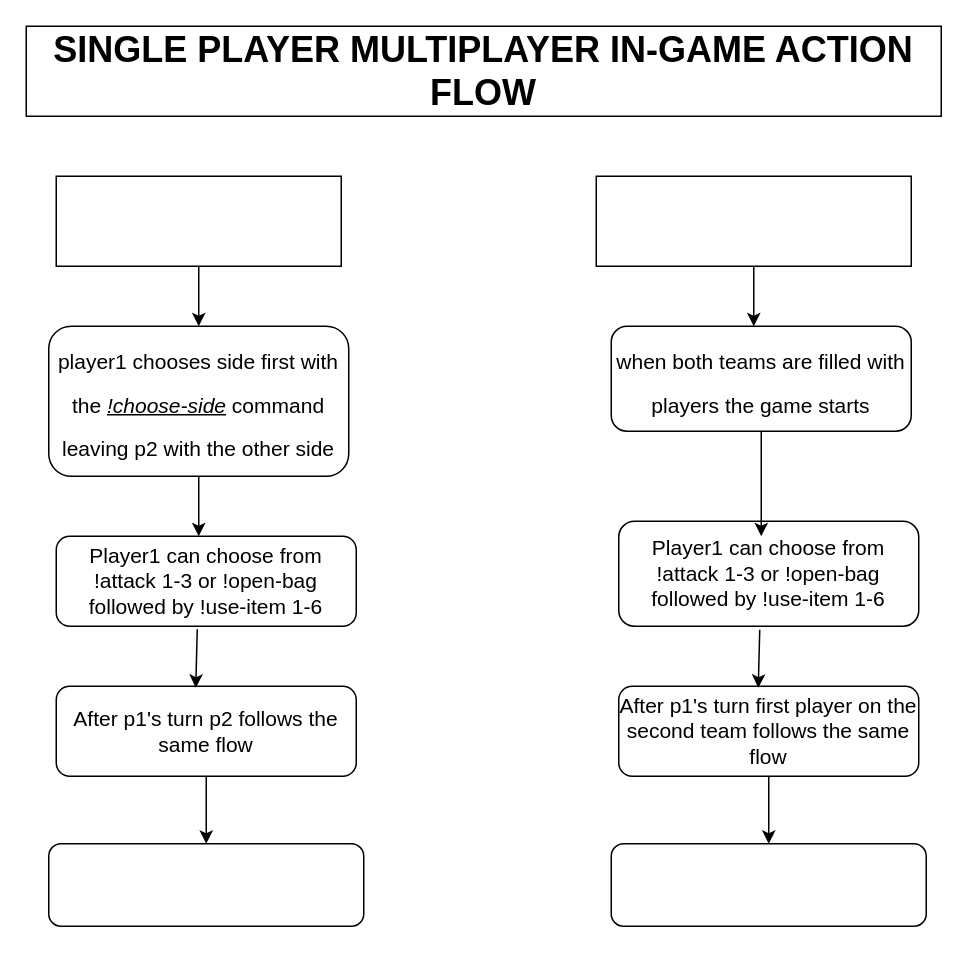
Image size: 968x953. Some labels were removed from this diagram. The shapes that lost their labels are listed below. From the top down, each one's centre as x and y in pixels, then its label:
At [198,220]: "SINGLE PLAYER".
At [753,220]: "MULTIPLAYER".
At [205,884]: "Game ends when first player loses all his fighters".
At [768,884]: "Game ends when first team loses all his fighters".
